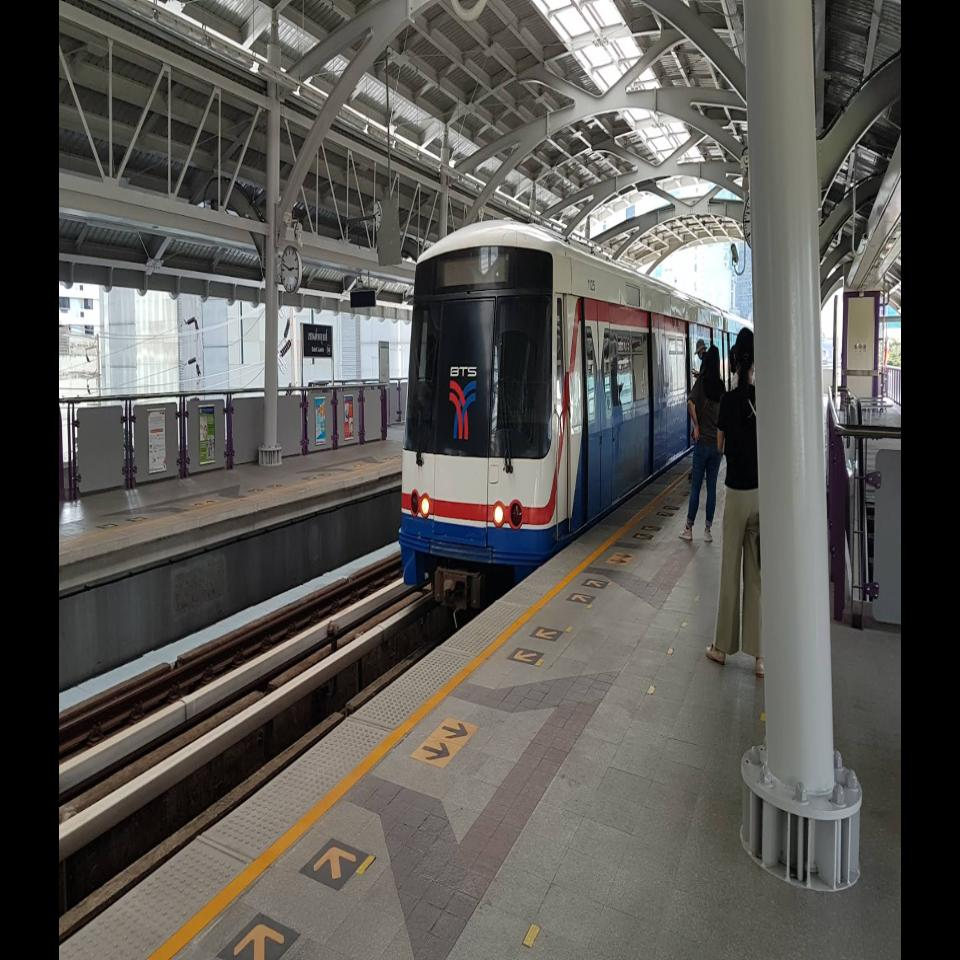Saint Louis: (302, 323, 333, 359)
